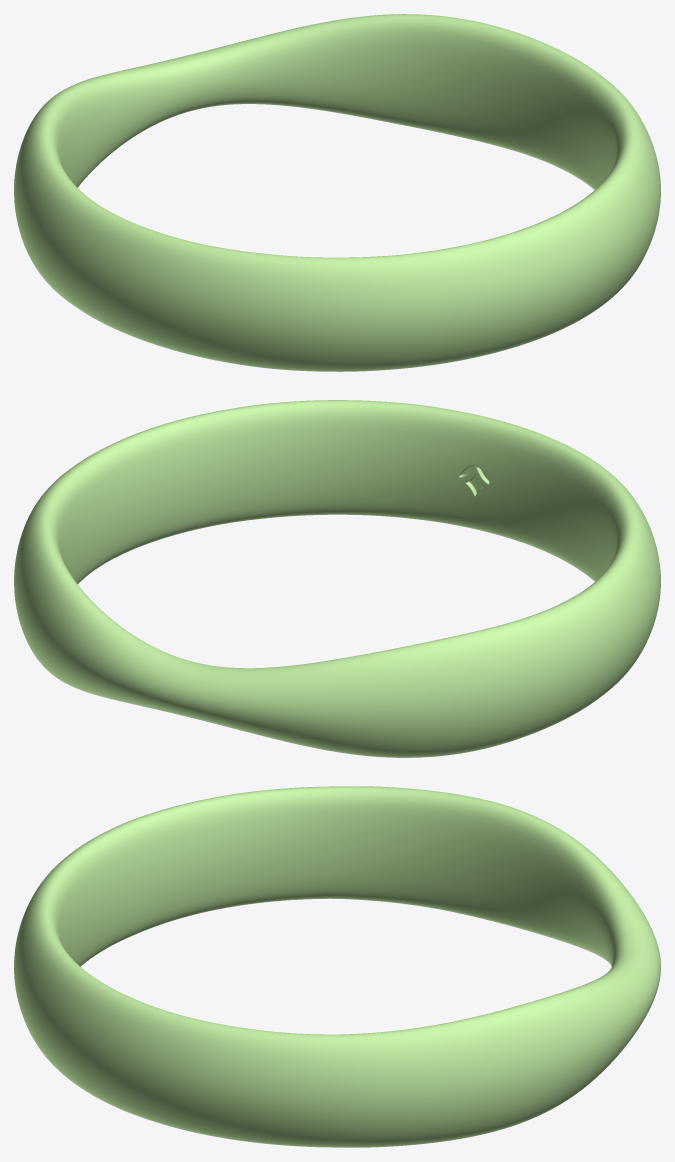
The model's file is BE2884_RENDER.glb.
3 renders of one model, top to bottom at view 1: azimuth 30°, elevation 25°; view 2: azimuth 150°, elevation 25°; view 3: azimuth 270°, elevation 25°, orthographic.
Parts seen in each view (by area): view 1: Metal03; view 2: Metal03; view 3: Metal03.
Part boxes in pixels (x1,y1,x2,y2): Metal03: (14, 14, 660, 371); Metal03: (14, 400, 660, 757); Metal03: (14, 786, 660, 1147).
Size of the model in its own units: 19.5 by 3.88 by 19.49.
